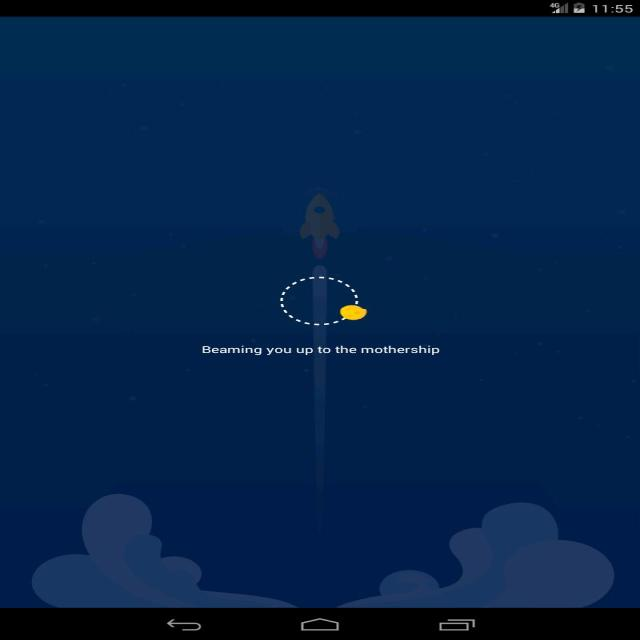image: (8, 17, 640, 605), (278, 275, 364, 327)
text: (200, 342, 444, 356)
